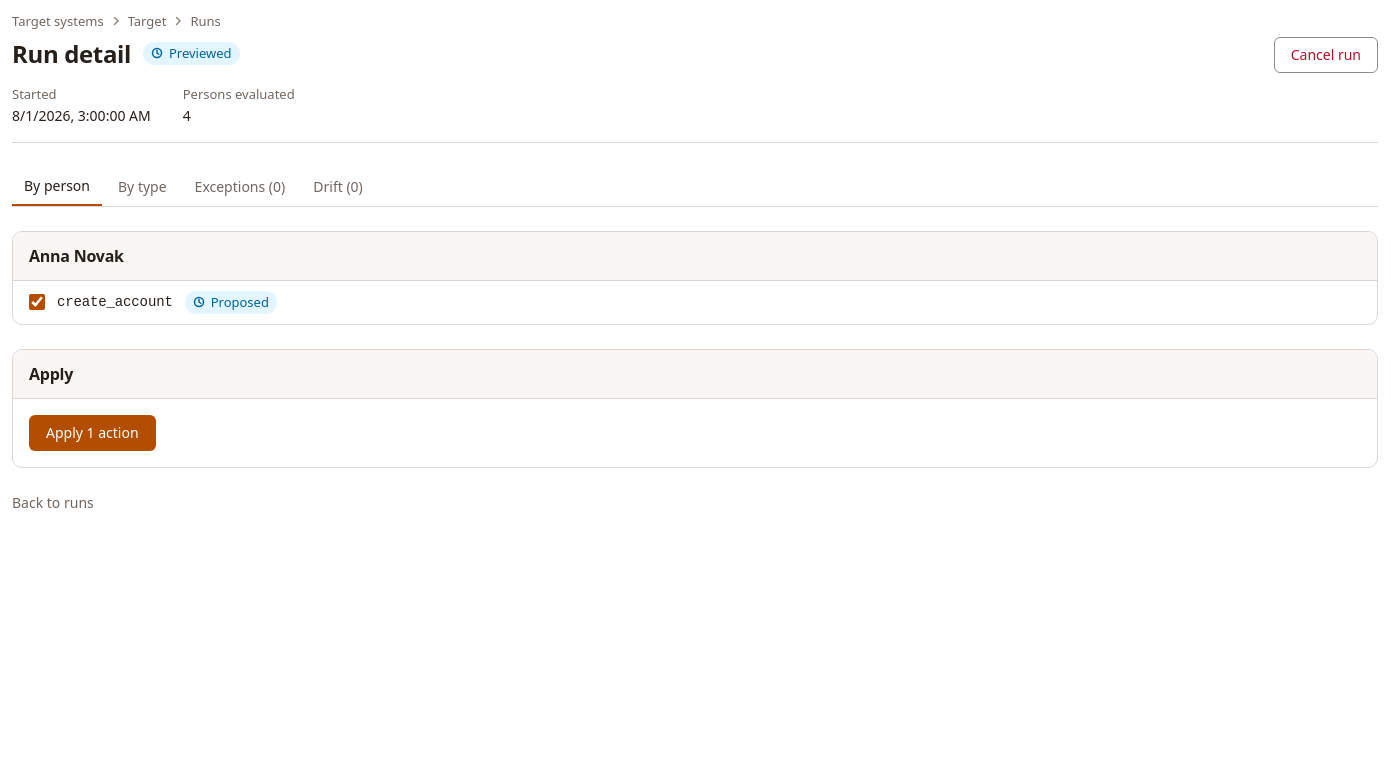
Test: ProvisionRunDetailPage › reports every count the apply returned, not the three it used to
Expected: the heading "Anna Novak" is shown, [29,244,124,268]
Click the button "Apply 1 action" at (92, 433), box [29,415,156,451]
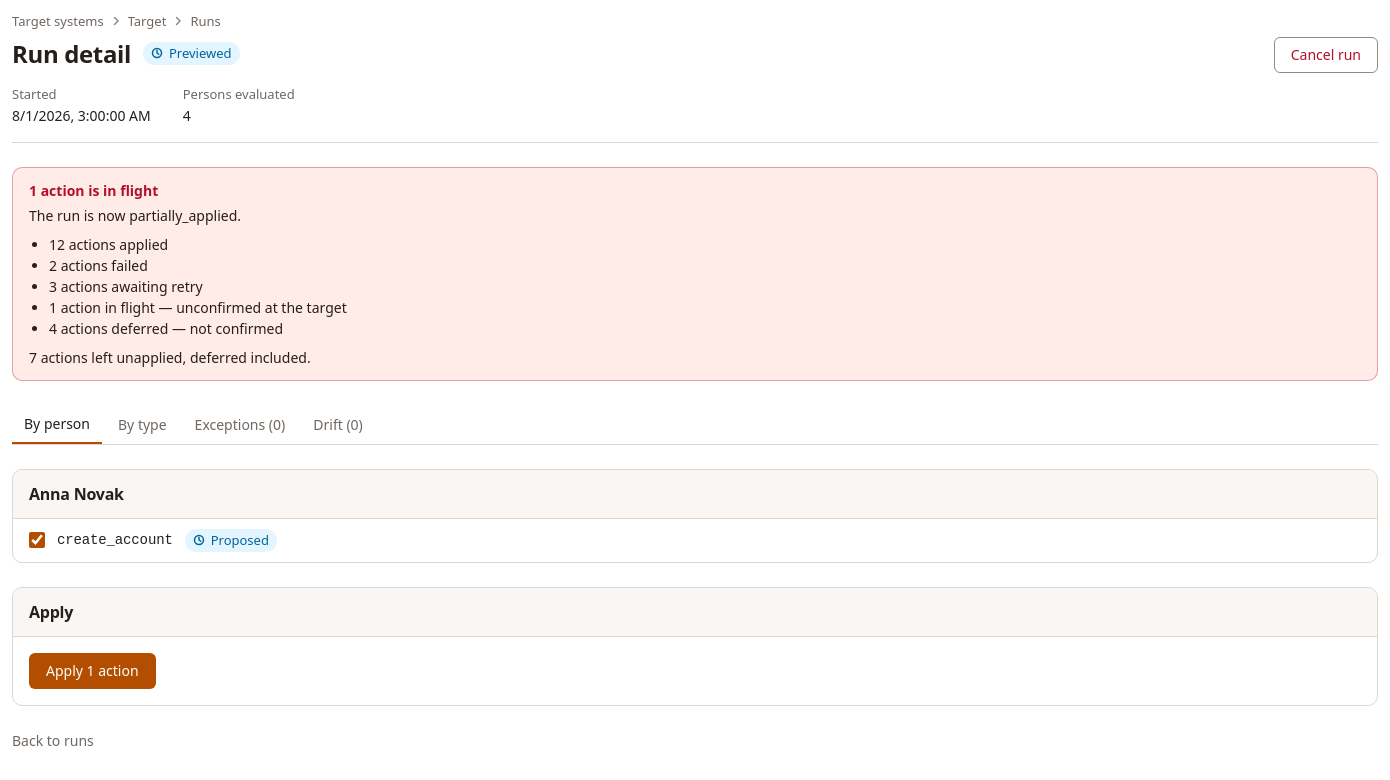
Expected: the text "1 action is in flight" is shown, [29,181,158,200]
Expected: the text "1 action is in flight" shows "The run is now partially_applied.", [12,167,1378,381]
